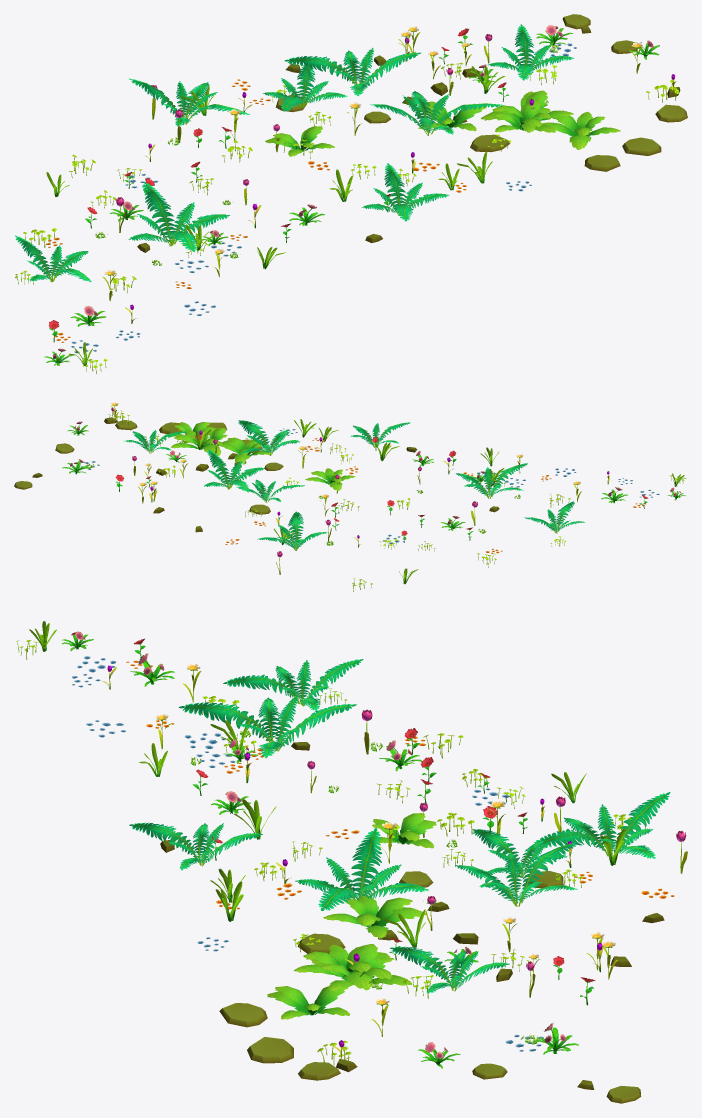
Rendered from Flores6.fbx.
3 renders of one model, top to bottom at view 1: azimuth 30°, elevation 25°; view 2: azimuth 150°, elevation 25°; view 3: azimuth 270°, elevation 25°, orthographic. The views are drawn at different scales.
Visible parts, largest first — view 1: Plane.012; view 2: Plane.012; view 3: Plane.012.
Part boxes in pixels (x1=…): Plane.012: x1=15, y1=14, x2=687, y2=373; Plane.012: x1=14, y1=402, x2=686, y2=591; Plane.012: x1=16, y1=621, x2=687, y2=1103.
Size of the model in its own units: 7.26 by 0.8654 by 4.47.
Materials: 2 (1 with a texture image).
